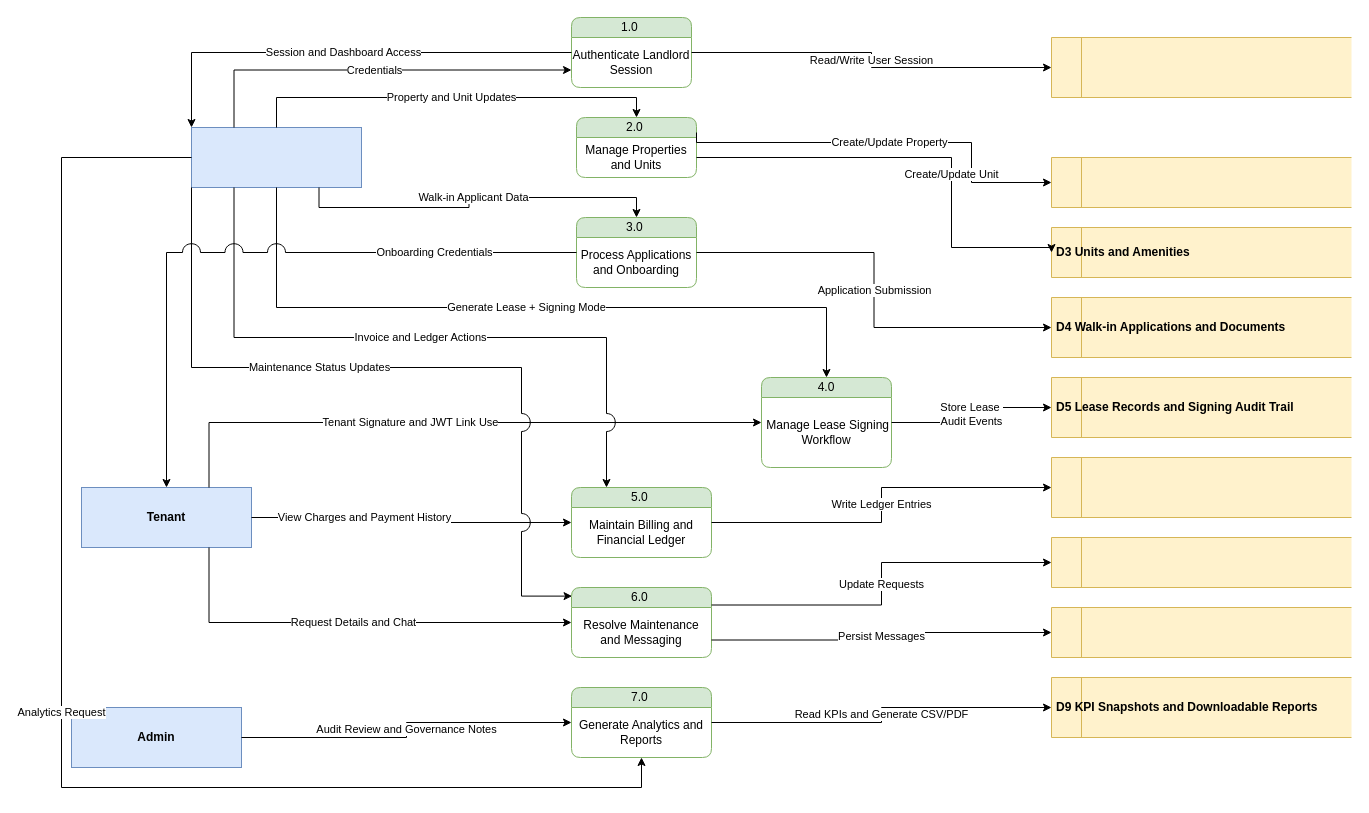
Some shapes in this 1369 by 813 pixel diagram are drawn without their labels. The centre of each missing label's shape, as x and y in pixels:
D1 Profiles and Roles: (1201,67)
D2 Properties: (1201,182)
D6 Financial Ledger and Transactions: (1201,487)
D7 Maintenance Requests: (1201,562)
D8 Message Threads: (1201,632)
Landlord: (276,157)
